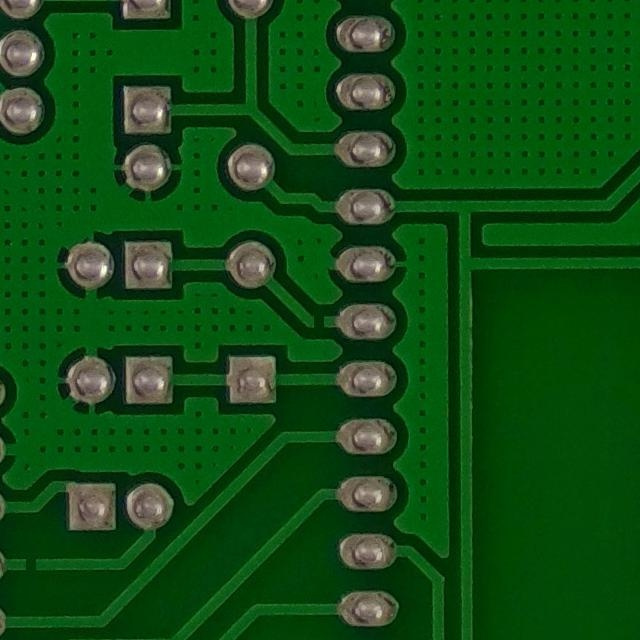open_circuit: (306, 307, 333, 334)
